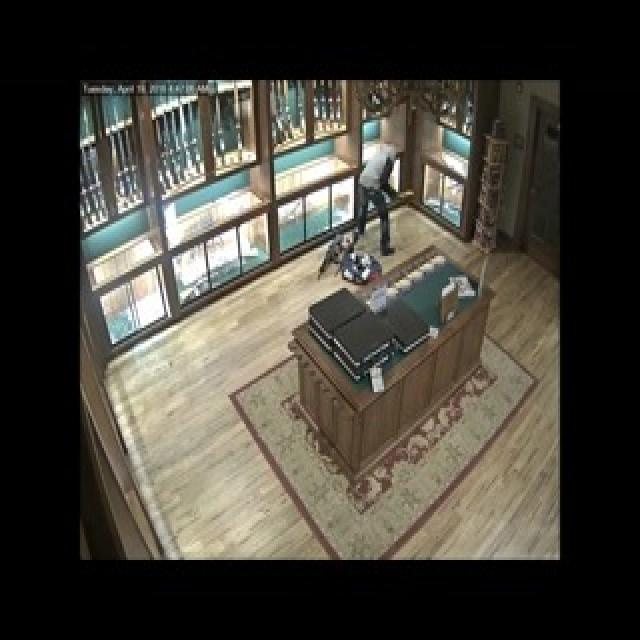thief: (350, 127, 411, 252)
